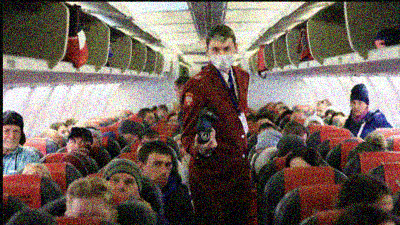with_mask: (207, 44, 232, 70)
without_mask: (144, 154, 168, 187), (2, 128, 19, 151), (348, 100, 366, 115), (172, 87, 182, 103)
